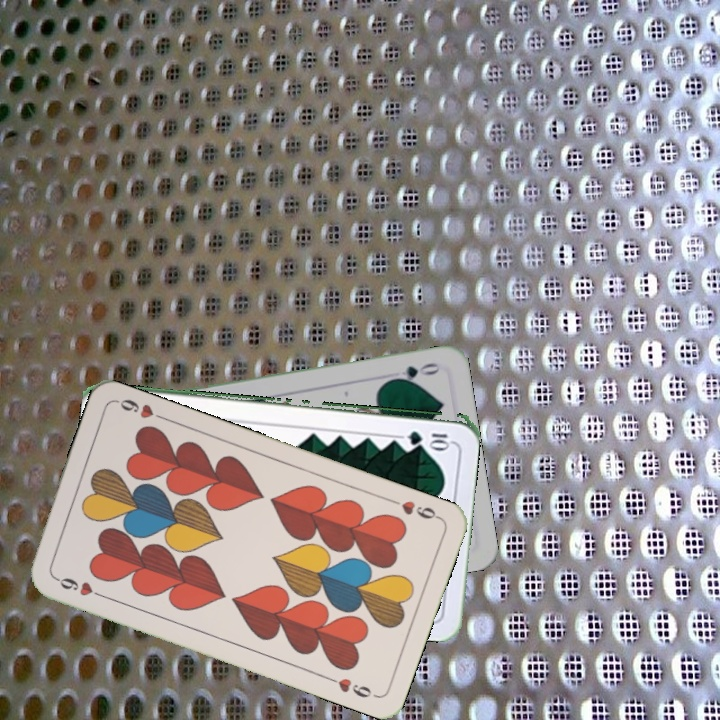G10: (403, 427, 453, 447)
GO: (385, 358, 443, 385)
H9: (50, 572, 107, 601), (386, 494, 443, 522)
